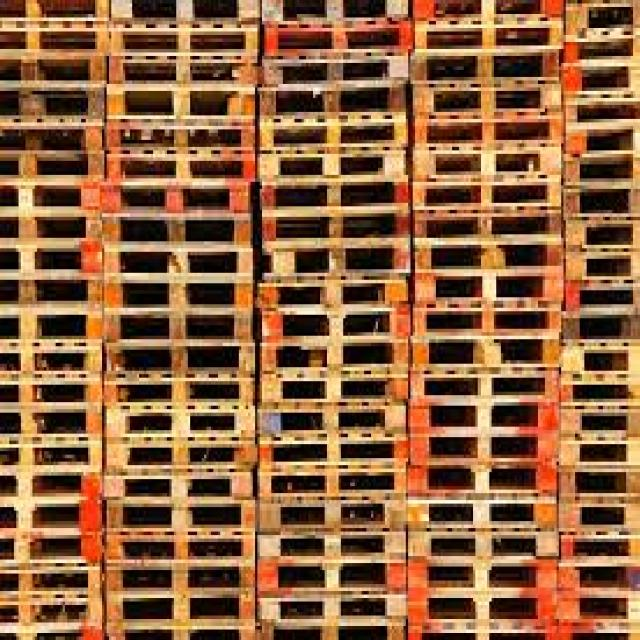Wooden-Pallets: (102, 244, 250, 286), (100, 306, 244, 347), (256, 204, 408, 242), (412, 138, 554, 178), (251, 532, 407, 567), (407, 338, 562, 373), (403, 497, 550, 530), (104, 152, 255, 184), (258, 280, 404, 312), (104, 590, 250, 621), (407, 592, 557, 622), (254, 594, 402, 624), (255, 149, 400, 176), (103, 471, 250, 497), (259, 378, 402, 403), (259, 474, 398, 494)
